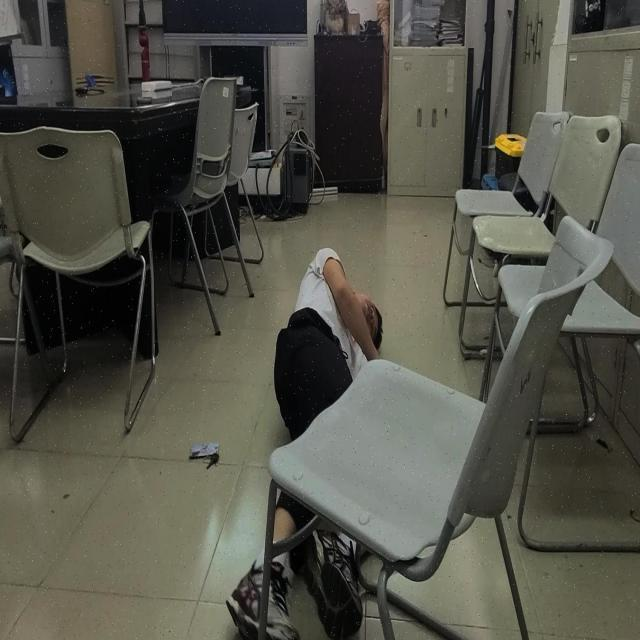fall: (218, 246, 394, 640)
